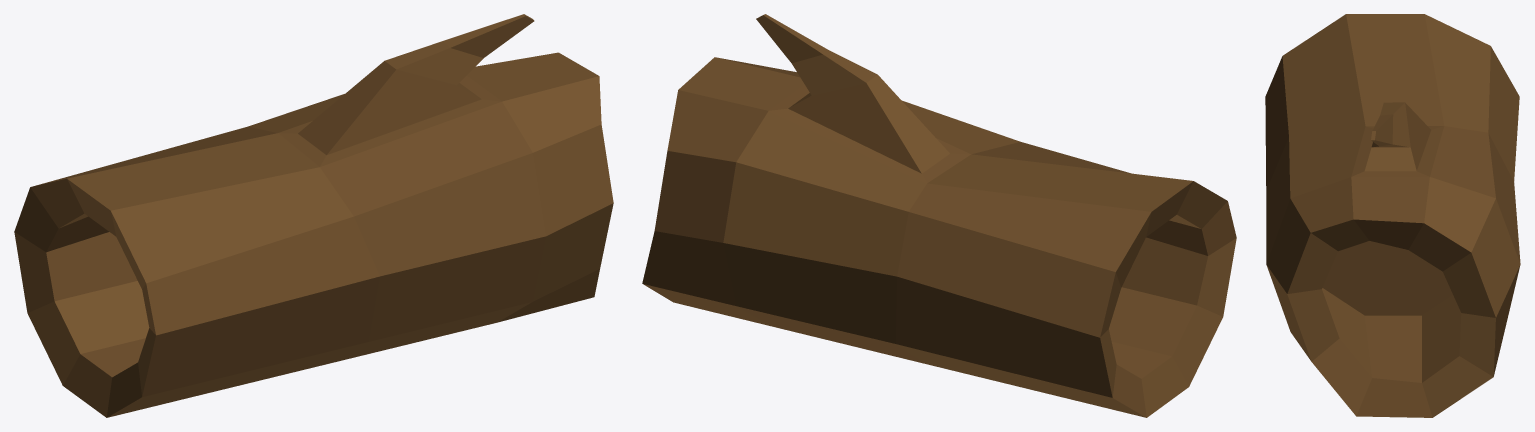
Rendered from Log.fbx.
3 renders of one model, left to right at view 1: azimuth 30°, elevation 25°; view 2: azimuth 150°, elevation 25°; view 3: azimuth 270°, elevation 25°, orthographic. The views are drawn at different scales.
Visible parts, largest first — view 1: Log; view 2: Log; view 3: Log.
Part boxes in pixels (x1=…): Log: x1=14, y1=14, x2=613, y2=417; Log: x1=642, y1=14, x2=1236, y2=417; Log: x1=1265, y1=14, x2=1520, y2=417.
Size of the model in its own units: 401 by 226 by 201.
